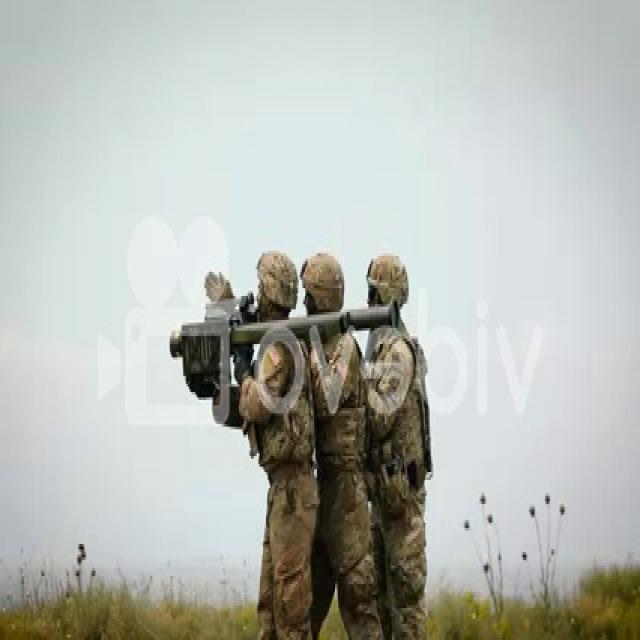rocket: (172, 299, 400, 357)
